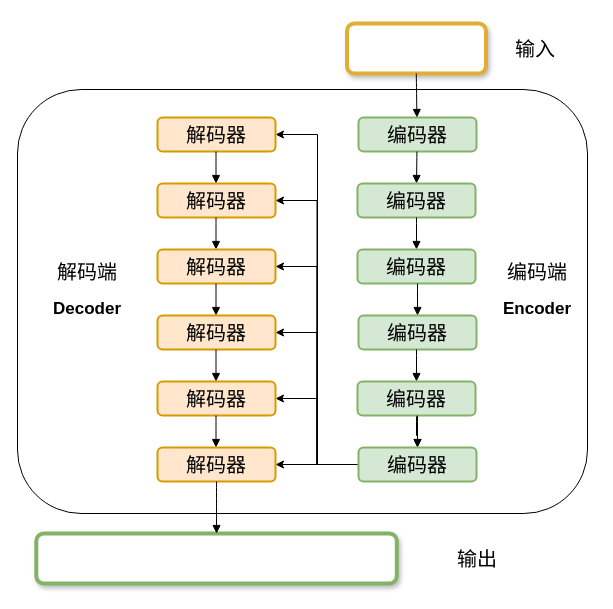
The diagram is 613 pixels wide and 609 high, and some of its shapes have lost their labels. The shapes that lost their labels are listed below. From the top down, each one's centre as x and y in pixels, then its label:
At point (417, 49): "穷且益坚".
At point (217, 559): "处境越穷困，意志应当越坚定".
